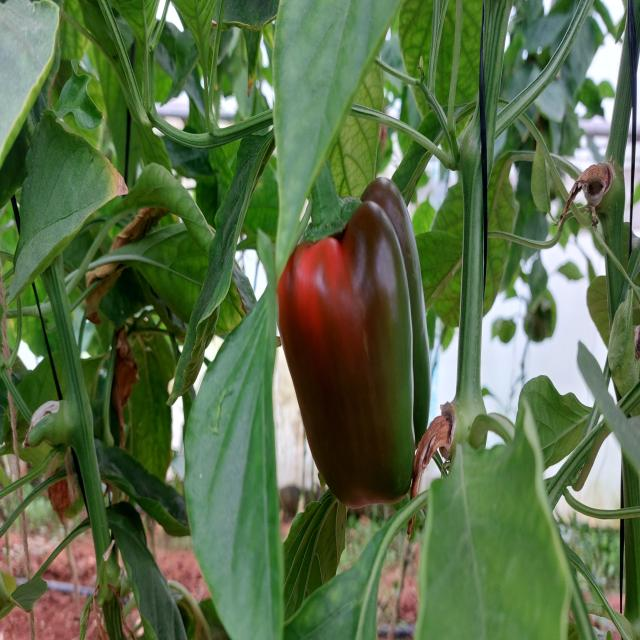BrownishRed--Can-be-Harvested: (263, 196, 444, 514)
